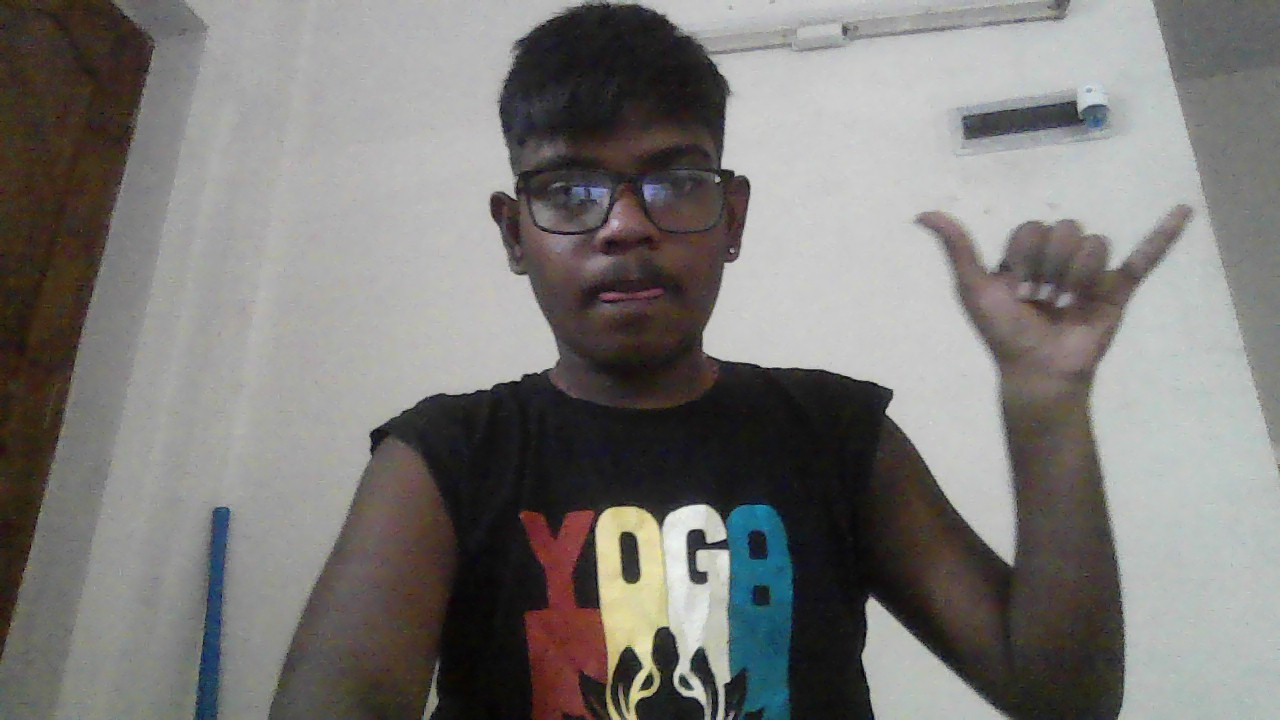Y: (911, 201, 1198, 388)
